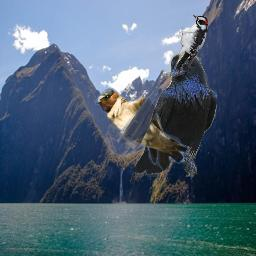Crow: (135, 52, 217, 177)
Swallow: (95, 88, 190, 172)
Woodpecker: (174, 14, 208, 73)
